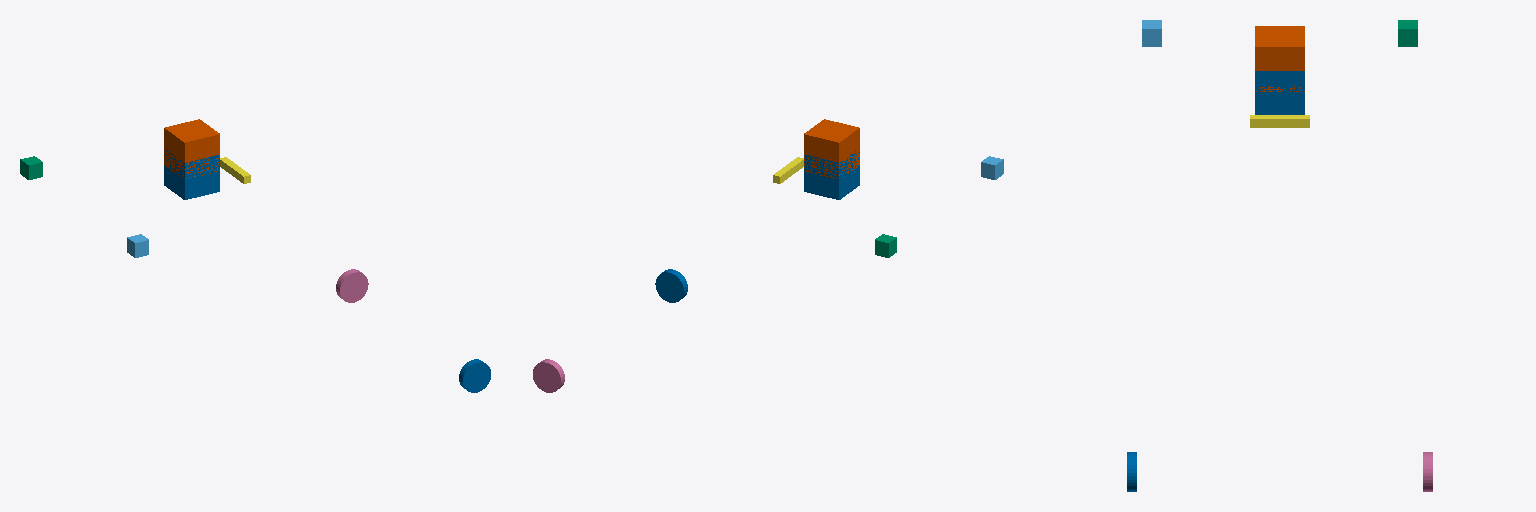
--- Render facts (derived) ---
3 views of the same robot in one strip: view 1: azimuth 30°, elevation 25°; view 2: azimuth 150°, elevation 25°; view 3: azimuth 270°, elevation 25° (orthographic).
Model catvehicle with 14 links and 13 joints (2 revolute, 4 continuous, 7 fixed), rooted at base_link, posed all joints at 0.
Visible links, largest first — view 1: velodyne_link, camera_link, front_left_steering_link, front_right_steering_link; view 2: velodyne_link, camera_link, front_right_steering_link, front_left_steering_link; view 3: velodyne_link, camera_link, triclops_link, camera_right_link, camera_left_link.
Boxes of the visible links, box(x1,y1,x2,y2) form: velodyne_link: box(164, 119, 219, 178); camera_link: box(164, 150, 219, 199); front_left_steering_link: box(336, 269, 368, 302); front_right_steering_link: box(459, 359, 490, 392); velodyne_link: box(804, 119, 859, 178); camera_link: box(804, 150, 859, 199); front_right_steering_link: box(655, 269, 687, 302); front_left_steering_link: box(533, 359, 564, 392); velodyne_link: box(1255, 26, 1304, 91); camera_link: box(1255, 71, 1304, 114); triclops_link: box(1250, 115, 1309, 127); camera_right_link: box(1142, 20, 1161, 46); camera_left_link: box(1398, 20, 1417, 46).
Size in the robot's own frame: 2.45 by 1.54 by 1.8 metres.
Meshes: 3 distinct files referenced, 0 mesh visuals loaded (none loaded); not drawn: 6 (reference not matched to a file when rendering).

The robot description file, URDF, robot "catvehicle":
<?xml version="1.0" encoding="utf-8"?>
<!-- =================================================================================== -->
<!-- |    This document was autogenerated by xacro from catvehicle.xacro               | -->
<!-- |    EDITING THIS FILE BY HAND IS NOT RECOMMENDED                                 | -->
<!-- =================================================================================== -->
<!--
Author: Jonathan Sprinkle, Sam Taylor, Alex Warren, Rahul Bhadani
Hannah Grace Mason, Joe Macinnes, Landon Chase Bentley
Copyright (c) 2013-2018 Arizona Board of Regents
All rights reserved.
Permission is hereby granted, without written agreement and without 
license or royalty fees, to use, copy, modify, and distribute this
software and its documentation for any purpose, provided that the 
above copyright notice and the following two paragraphs appear in 
all copies of this software.
IN NO EVENT SHALL THE ARIZONA BOARD OF REGENTS BE LIABLE TO ANY PARTY 
FOR DIRECT, INDIRECT, SPECIAL, INCIDENTAL, OR CONSEQUENTIAL DAMAGES 
ARISING OUT OF THE USE OF THIS SOFTWARE AND ITS DOCUMENTATION, EVEN 
IF THE ARIZONA BOARD OF REGENTS HAS BEEN ADVISED OF THE POSSIBILITY OF 
SUCH DAMAGE.
THE ARIZONA BOARD OF REGENTS SPECIFICALLY DISCLAIMS ANY WARRANTIES, 
INCLUDING, BUT NOT LIMITED TO, THE IMPLIED WARRANTIES OF MERCHANTABILITY 
AND FITNESS FOR A PARTICULAR PURPOSE. THE SOFTWARE PROVIDED HEREUNDER
IS ON AN "AS IS" BASIS, AND THE ARIZONA BOARD OF REGENTS HAS NO OBLIGATION
TO PROVIDE MAINTENANCE, SUPPORT, UPDATES, ENHANCEMENTS, OR MODIFICATIONS.
Summary: 
=======
This file specifies 3D structure of the car with their inertial properties
and other dynamics.
-->
<!-- Inertial parameters selected with the help of 
http://www.car-engineer.com/vehicle-inertia-calculation-tool/
-->
<robot name="catvehicle" xmlns:xacro="http://www.ros.org/wiki/xacro">
  <!--xacro:property name="tyre_mass_ixx" value="2.53174430759784"/>
    <xacro:property name="tyre_mass_iyy" value="1.43724304615612"/>
    <xacro:property name="tyre_mass_izz" value="1.39917175362076"/>
    <xacro:property name="tyre_mass_ixz" value="0.0295230888350046"/>
    <xacro:property name="tyre_mass_ixy" value="-0.00131884944491474"/>
    <xacro:property name="tyre_mass_iyz" value="-0.00115883839900594"/-->
  <gazebo reference="back_right_wheel_link">
    <mu1>1000000</mu1>
    <mu2>1000000</mu2>
    <kp>10000000</kp>
    <!--kp is surface elasticity-->
    <kd>100</kd>
    <!-- kd is damping-->
    <minDepth>0.01</minDepth>
    <maxVel>1000.0</maxVel>
  </gazebo>
  <gazebo reference="back_left_wheel_link">
    <mu1>100000000</mu1>
    <mu2>100000000</mu2>
    <kp>10000000</kp>
    <kd>100</kd>
    <minDepth>0.01</minDepth>
    <maxVel>1000.0</maxVel>
  </gazebo>
  <gazebo reference="front_right_wheel_link">
    <mu1>100000000</mu1>
    <mu2>100000000</mu2>
    <kp>1000000</kp>
    <kd>100</kd>
    <minDepth>0.01</minDepth>
    <maxVel>1000.0</maxVel>
  </gazebo>
  <gazebo reference="front_left_wheel_link">
    <mu1>100000000</mu1>
    <mu2>100000000</mu2>
    <kp>1000000</kp>
    <kd>100</kd>
    <minDepth>0.01</minDepth>
    <maxVel>1000.0</maxVel>
  </gazebo>
  <gazebo reference="front_right_steering_link">
    <mu1>100000000</mu1>
    <mu2>100000000</mu2>
    <kp>1000000</kp>
    <kd>0.1</kd>
    <minDepth>0.01</minDepth>
    <maxVel>1000.0</maxVel>
  </gazebo>
  <gazebo reference="front_left_steering_link">
    <mu1>100000000</mu1>
    <mu2>100000000</mu2>
    <kp>1000000</kp>
    <kd>0.1</kd>
    <minDepth>0.01</minDepth>
    <maxVel>1000.0</maxVel>
  </gazebo>
  <!--camera-->
  <!-- JMS removed to see if it improves sim times -->
  <!--
<gazebo reference="camera_link">
   <mu1>0.6</mu1>
   <mu2>0.5</mu2>
</gazebo>
<gazebo reference="camera_link">
   <sensor type="camera" name="camera1">
      <update_rate>30.0</update_rate>
      <camera name="head">
        <horizontal_fov>1.3962634</horizontal_fov>
        <image>
          <width>800</width>
          <height>800</height>
          <format>R8G8B8</format>
        </image>
        <clip>
          <near>0.02</near>
          <far>300</far>
        </clip>
        <noise>
          <type>gaussian</type>
           <mean>0.0</mean>
          <stddev>0.007</stddev>
        </noise>
      </camera>
      <plugin name="camera_controller" filename="libgazebo_ros_camera.so">
        <alwaysOn>true</alwaysOn>
        <updateRate>0.0</updateRate>
    	<robotNamespace>/$(arg roboname)</robotNamespace>
        <cameraName>camera1</cameraName>
        <imageTopicName>image_raw</imageTopicName>
        <cameraInfoTopicName>camera_info</cameraInfoTopicName>
        <frameName>camera_link</frameName>
        <hackBaseline>0.07</hackBaseline>
        <distortionK1>0.0</distortionK1>
        <distortionK2>0.0</distortionK2>
        <distortionK3>0.0</distortionK3>
        <distortionT1>0.0</distortionT1>
        <distortionT2>0.0</distortionT2>
      </plugin>
    </sensor>
</gazebo>
-->
  <gazebo reference="laser_link">
    <mu1>0.6</mu1>
    <mu2>0.5</mu2>
  </gazebo>
  <gazebo reference="laser_link">
    <sensor name="lidar_sensor" type="ray">
      <pose>0 0 0 0 0 0</pose>
      <visualize>false</visualize>
      <update_rate>5</update_rate>
      <ray>
        <scan>
          <horizontal>
            <samples>100</samples>
            <resolution>1</resolution>
            <min_angle>-0.4</min_angle>
            <max_angle>0.4</max_angle>
          </horizontal>
          <vertical>
            <samples>20</samples>
            <resolution>1</resolution>
            <min_angle>-0.034906585</min_angle>
            <!--			<max_angle>0.432841654</max_angle> -->
            <max_angle>0.326</max_angle>
          </vertical>
        </scan>
        <range>
          <min>1</min>
          <max>50.0</max>
          <resolution>0.02</resolution>
        </range>
      </ray>
      <!--                <plugin name="gazebo_ros_head_hokuyo_controller" filename="libgazebo_ros_laser.so">
                   <topicName>/cat/laser/scan</topicName>
                      <frameName>laser_link</frameName>  -->
      <plugin filename="libgazebo_ros_block_laser.so" name="laser_controller">
        <frameName>laser_link</frameName>
        <hokuyoMinIntensity>101</hokuyoMinIntensity>
        <robotNamespace>/catvehicle</robotNamespace>
        <topicName>lidar_points</topicName>
        <gaussianNoise>0.02</gaussianNoise>
        <updateRate>5</updateRate>
      </plugin>
    </sensor>
  </gazebo>
  <gazebo reference="front_laser_link">
    <mu1>0.6</mu1>
    <mu2>0.5</mu2>
  </gazebo>
  <gazebo reference="front_laser_link">
    <sensor name="sick_lms291" type="ray">
      <pose>0 0 0 0 0 0</pose>
      <visualize>true</visualize>
      <update_rate>75</update_rate>
      <ray>
        <scan>
          <horizontal>
            <samples>180</samples>
            <resolution>1</resolution>
            <min_angle>-1.57</min_angle>
            <max_angle>1.57</max_angle>
          </horizontal>
        </scan>
        <range>
          <min>1.5</min>
          <!-- This range is in m, I hope... -->
          <max>80.0</max>
          <resolution>0.05</resolution>
        </range>
        <!--
                           <noise>
                                <type>gaussian</type>
                                <mean>0.0</mean>
                                <stddev>0.02</stddev>
                           </noise>
-->
      </ray>
      <plugin filename="libgazebo_ros_laser.so" name="sick_lms291_controller">
        <!--			      <robotNamespace>/catvehicle</robotNamespace>-->
        <topicName>/catvehicle/front_laser_points</topicName>
        <update_rate>75</update_rate>
        <frameName>front_laser_link</frameName>
        <gaussianNoise>0.02</gaussianNoise>
      </plugin>
    </sensor>
  </gazebo>
  <gazebo>
    <plugin filename="libgazebo_ros_control.so" name="gazebo_ros_control">
      <robotNamespace>/catvehicle</robotNamespace>
      <robotSimType>gazebo_ros_control/DefaultRobotHWSim</robotSimType>
      <legacyModeNS>true</legacyModeNS>
    </plugin>
  </gazebo>
  <!--Rear Wheel Drive, cuz why not-->
  <!--
<gazebo>
  <plugin name="differential_drive_controller" filename="libgazebo_ros_diff_drive.so">
      <robotNamespace>/catvehicle</robotNamespace>
      <rosDebugLevel>Debug</rosDebugLevel>
      <publishWheelTF>false</publishWheelTF>
      <publishWheelJointState>true</publishWheelJointState>
      <alwaysOn>true</alwaysOn>
      <leftJoint>back_left_wheel_joint</leftJoint>
      <rightJoint>back_right_wheel_joint</rightJoint>
      <wheelSeparation>1.73</wheelSeparation>
      <wheelDiameter>0.712</wheelDiameter>
      <wheelTorque>350</wheelTorque>
      <wheelAcceleration>1.0</wheelAcceleration>
      <commandTopic>cmd_vel</commandTopic>
      <odometryTopic>odom</odometryTopic>
      <odometryFrame>odom</odometryFrame>
      <odometrySource>world</odometrySource>
      <robotBaseFrame>base_link</robotBaseFrame>
      <cmd_vel_timeout>0.20</cmd_vel_timeout>
      <updateRate>10.0</updateRate>
  </plugin>
</gazebo>
-->
  <gazebo>
    <plugin filename="libgazebo_ros_joint_state_publisher.so" name="joint_state_publisher">
      <jointName>back_left_wheel_joint, back_right_wheel_joint, front_left_steering_joint, front_right_steering_joint, front_right_wheel_joint, front_left_wheel_joint</jointName>
      <updateRate>50.0</updateRate>
      <robotNamespace>/catvehicle</robotNamespace>
      <alwaysOn>true</alwaysOn>
    </plugin>
  </gazebo>
  <gazebo>
    <plugin filename="libcatvehiclegazebo.so" name="cmdvel_controller">
      <robotNamespace>/catvehicle</robotNamespace>
    </plugin>
  </gazebo>
  <gazebo reference="velodyne_link">
    <mu1>0.6</mu1>
    <mu2>0.5</mu2>
  </gazebo>
  <gazebo reference="velodyne_link">
    <sensor name="lidar_sensor" type="ray">
      <pose>0 0 0 0 0 0</pose>
      <visualize>false</visualize>
      <update_rate>5</update_rate>
      <ray>
        <scan>
          <horizontal>
            <samples>100</samples>
            <resolution>1</resolution>
            <min_angle>-0.4</min_angle>
            <max_angle>0.4</max_angle>
          </horizontal>
          <vertical>
            <samples>20</samples>
            <resolution>1</resolution>
            <min_angle>-0.034906585</min_angle>
            <!--			<max_angle>0.432841654</max_angle> -->
            <max_angle>0.326</max_angle>
          </vertical>
        </scan>
        <range>
          <min>1</min>
          <max>50.0</max>
          <resolution>0.02</resolution>
        </range>
      </ray>
      <!--                <plugin name="gazebo_ros_head_hokuyo_controller" filename="libgazebo_ros_laser.so">
                   <topicName>/cat/laser/scan</topicName>
                      <frameName>laser_link</frameName>  -->
      <plugin filename="libgazebo_ros_block_laser.so" name="laser_controller">
        <frameName>velodyne_link</frameName>
        <hokuyoMinIntensity>101</hokuyoMinIntensity>
        <robotNamespace>/catvehicle</robotNamespace>
        <topicName>lidar_points</topicName>
        <gaussianNoise>0.02</gaussianNoise>
        <updateRate>5</updateRate>
      </plugin>
    </sensor>
  </gazebo>
  <!--right camera-->
  <gazebo reference="camera_right_link">
    <mu1>0.6</mu1>
    <mu2>0.5</mu2>
  </gazebo>
  <gazebo reference="camera_right_link">
    <sensor name="camera_right" type="camera">
      <update_rate>30.0</update_rate>
      <camera name="right">
        <horizontal_fov>1.3962634</horizontal_fov>
        <image>
          <width>800</width>
          <height>800</height>
          <format>R8G8B8</format>
        </image>
        <clip>
          <near>0.02</near>
          <far>300</far>
        </clip>
        <noise>
          <type>gaussian</type>
          <mean>0.0</mean>
          <stddev>0.007</stddev>
        </noise>
      </camera>
      <plugin filename="libgazebo_ros_camera.so" name="camera_right_controller">
        <alwaysOn>true</alwaysOn>
        <updateRate>0.0</updateRate>
        <robotNamespace>/catvehicle</robotNamespace>
        <cameraName>camera_right</cameraName>
        <imageTopicName>image_raw_right</imageTopicName>
        <cameraInfoTopicName>camera_right_info</cameraInfoTopicName>
        <frameName>camera_right_link</frameName>
        <hackBaseline>0.07</hackBaseline>
        <distortionK1>0.0</distortionK1>
        <distortionK2>0.0</distortionK2>
        <distortionK3>0.0</distortionK3>
        <distortionT1>0.0</distortionT1>
        <distortionT2>0.0</distortionT2>
      </plugin>
    </sensor>
  </gazebo>
  <!--left camera-->
  <gazebo reference="camera_left_link">
    <mu1>0.6</mu1>
    <mu2>0.5</mu2>
  </gazebo>
  <gazebo reference="camera_left_link">
    <sensor name="camera_left" type="camera">
      <update_rate>30.0</update_rate>
      <camera name="left">
        <horizontal_fov>1.3962634</horizontal_fov>
        <image>
          <width>800</width>
          <height>800</height>
          <format>R8G8B8</format>
        </image>
        <clip>
          <near>0.02</near>
          <far>300</far>
        </clip>
        <noise>
          <type>gaussian</type>
          <mean>0.0</mean>
          <stddev>0.007</stddev>
        </noise>
      </camera>
      <plugin filename="libgazebo_ros_camera.so" name="camera_left_controller">
        <alwaysOn>true</alwaysOn>
        <updateRate>0.0</updateRate>
        <robotNamespace>/catvehicle</robotNamespace>
        <cameraName>camera_left</cameraName>
        <imageTopicName>image_raw_left</imageTopicName>
        <cameraInfoTopicName>camera_left_info</cameraInfoTopicName>
        <frameName>camera_left_link</frameName>
        <hackBaseline>0.07</hackBaseline>
        <distortionK1>0.0</distortionK1>
        <distortionK2>0.0</distortionK2>
        <distortionK3>0.0</distortionK3>
        <distortionT1>0.0</distortionT1>
        <distortionT2>0.0</distortionT2>
      </plugin>
    </sensor>
  </gazebo>
  <!--triclops camera-->
  <gazebo reference="triclops_link">
    <mu1>0.6</mu1>
    <mu2>0.5</mu2>
  </gazebo>
  <gazebo reference="triclops_link">
    <sensor name="triclops" type="camera">
      <update_rate>16.0</update_rate>
      <camera name="triclops">
        <horizontal_fov>1.3962634</horizontal_fov>
        <image>
          <width>1280</width>
          <height>960</height>
          <format>R8G8B8</format>
        </image>
        <clip>
          <near>0.02</near>
          <far>300</far>
        </clip>
        <noise>
          <type>gaussian</type>
          <mean>0.0</mean>
          <stddev>0.007</stddev>
        </noise>
      </camera>
      <plugin filename="libgazebo_ros_camera.so" name="camera_triclops_controller">
        <alwaysOn>true</alwaysOn>
        <updateRate>0.0</updateRate>
        <robotNamespace>/catvehicle</robotNamespace>
        <cameraName>triclops</cameraName>
        <imageTopicName>triclops/left/image</imageTopicName>
        <cameraInfoTopicName>camera_triclops_info</cameraInfoTopicName>
        <frameName>triclops_link</frameName>
        <hackBaseline>0.07</hackBaseline>
        <distortionK1>0.0</distortionK1>
        <distortionK2>0.0</distortionK2>
        <distortionK3>0.0</distortionK3>
        <distortionT1>0.0</distortionT1>
        <distortionT2>0.0</distortionT2>
      </plugin>
    </sensor>
  </gazebo>
  <!--Car Body-->
  <link name="base_link">
    <collision>
      <origin rpy="0 0 0" xyz="0 0 1.0639"/>
      <geometry>
        <mesh filename="package://catvehicle/meshes/ford_escape_no_wheels_2.stl"/>
      </geometry>
    </collision>
    <visual>
      <origin rpy="0 0 0" xyz="0 0 1.0639"/>
      <geometry>
        <mesh filename="package://catvehicle/meshes/ford_escape_no_wheels_2.stl"/>
      </geometry>
    </visual>
  </link>
  <joint name="inertial_joint" type="fixed">
    <parent link="base_link"/>
    <child link="main_mass"/>
    <origin rpy="0 0 0" xyz="0 0 0"/>
  </joint>
  <link name="main_mass" type="fixed">
    <parent link="inertial_joint"/>
    <inertial>
      <origin rpy="0 0 0" xyz="-0.0202 0.0126 -0.0256"/>
      <!-- This is the center of mass of Car Body-->
      <mass value="1703.239"/>
      <inertia ixx="347.195805" ixy="-11.4914985" ixz="18.5070628" iyy="2330.10026" iyz="3.97814264" izz="2529.41827"/>
    </inertial>
  </link>
  <!--Back Right Wheel-->
  <joint name="back_right_wheel_joint" type="continuous">
    <parent link="base_link"/>
    <child link="back_right_wheel_link"/>
    <origin rpy="0 0 0" xyz="-1.05 -0.765 0.66"/>
    <axis xyz="0 1 0"/>
    <dynamics damping="0.01"/>
    <limit effort="10000" velocity="1000"/>
    <joint_properties damping="10" friction="10.0"/>
  </joint>
  <link name="back_right_wheel_link">
    <collision>
      <origin rpy="1.57079634179 0 0" xyz="0 0 0"/>
      <geometry>
        <cylinder length="0.2336291492" radius="0.3671951254"/>
        <!--mesh filename="package://catvehicle/meshes/ford_escape_wheel.stl"/-->
      </geometry>
      <surface>
        <friction>
          <ode>
            <mu>10000000</mu>
            <mu2>7000</mu2>
          </ode>
        </friction>
        <bounce>
          <restitution_coefficient>0.0</restitution_coefficient>
        </bounce>
        <contact>
          <ode>
            <soft_cfm>0.001</soft_cfm>
            <soft_erp>0.5</soft_erp>
            <kp>10000000</kp>
            <kd>1</kd>
          </ode>
        </contact>
      </surface>
    </collision>
    <visual>
      <!--origin xyz="0 0 0" rpy="${PI/2} 0 0"/-->
      <origin rpy="0 0 -1.57079634179" xyz="0 0.1 0.0"/>
      <geometry>
        <!--cylinder length="${tyre_length}" radius="${tyre_radius}"/>
                <scale xyz="1 1 1"/-->
        <mesh filename="package://catvehicle/meshes/ford_escape_wheel.stl" scale="1.2 1 1"/>
      </geometry>
    </visual>
    <inertial>
      <origin rpy="0 0 0" xyz="0 0 0"/>
      <mass value="20"/>
      <inertia ixx="1.34832260118" ixy="0.0" ixz="0.0" iyy="0.765132266181" iyz="0.0" izz="0.765132266181"/>
    </inertial>
  </link>
  <!--Back Left Wheel -->
  <joint name="back_left_wheel_joint" type="continuous">
    <parent link="base_link"/>
    <child link="back_left_wheel_link"/>
    <origin rpy="0 0 0" xyz="-1.05 0.765 0.66"/>
    <axis xyz="0 1 0"/>
    <dynamics damping="0.01"/>
    <limit effort="10000" velocity="1000"/>
    <joint_properties damping="10" friction="10.0"/>
  </joint>
  <link name="back_left_wheel_link">
    <collision>
      <origin rpy="1.57079634179 0 0" xyz="0 0 0"/>
      <geometry>
        <cylinder length="0.2336291492" radius="0.3671951254"/>
        <!--mesh filename="package://catvehicle/meshes/ford_escape_wheel.stl"/-->
      </geometry>
      <surface>
        <friction>
          <ode>
            <mu>10000000</mu>
            <mu2>7000</mu2>
          </ode>
        </friction>
        <bounce>
          <restitution_coefficient>0.0</restitution_coefficient>
        </bounce>
        <contact>
          <ode>
            <soft_cfm>0.001</soft_cfm>
            <soft_erp>0.5</soft_erp>
            <kp>10000000</kp>
            <kd>1</kd>
          </ode>
        </contact>
      </surface>
    </collision>
    <visual>
      <!--origin xyz="0 0 0" rpy="${PI/2} 0 0"/-->
      <origin rpy="0 0 1.57079634179" xyz="0 -0.1 0.0"/>
      <geometry>
        <!--cylinder length="${tyre_length}" radius="${tyre_radius}"/-->
        <mesh filename="package://catvehicle/meshes/ford_escape_wheel.stl" scale="1.2 1 1"/>
      </geometry>
    </visual>
    <inertial>
      <origin rpy="0 0 0" xyz="0 0 0"/>
      <mass value="20"/>
      <inertia ixx="1.34832260118" ixy="0.0" ixz="0.0" iyy="0.765132266181" iyz="0.0" izz="0.765132266181"/>
    </inertial>
  </link>
  <!--Right Steering-->
  <joint name="front_right_steering_joint" type="revolute">
    <parent link="base_link"/>
    <child link="front_right_steering_link"/>
    <origin rpy="0 0 0" xyz="1.55 -0.745 0.66"/>
    <axis xyz="0 0 1"/>
    <limit effort="10000" lower="-0.6" upper="0.6" velocity="1000"/>
  </joint>
  <link name="front_right_steering_link">
    <collision>
      <origin rpy="1.57079634179 0 0" xyz="0 0 0"/>
      <geometry>
        <cylinder length="0.05" radius="0.1"/>
      </geometry>
    </collision>
    <visual>
      <origin rpy="1.57079634179 0 0" xyz="0 0 0"/>
      <geometry>
        <cylinder length="0.05" radius="0.1"/>
      </geometry>
    </visual>
    <inertial>
      <origin rpy="0 0 0" xyz="0 0 0"/>
      <mass value="50.0"/>
      <inertia ixx="0.25" ixy="0.000000" ixz="0.000000" iyy="0.135416666667" iyz="0.000000" izz="0.135416666667"/>
    </inertial>
  </link>
  <!--Front Right Wheel-->
  <joint name="front_right_wheel_joint" type="continuous">
    <parent link="front_right_steering_link"/>
    <child link="front_right_wheel_link"/>
    <origin rpy="0 0 0" xyz="0 0 0"/>
    <axis xyz="0 1 0"/>
    <dynamics damping="0.01"/>
    <limit effort="10000" velocity="1000"/>
    <joint_properties damping="10" friction="10.0"/>
  </joint>
  <link name="front_right_wheel_link">
    <collision>
      <origin rpy="1.57079634179 0 0" xyz="0 0 0"/>
      <!--origin xyz="0 0 0" rpy="0 0 ${-PI/2}"/-->
      <geometry>
        <cylinder length="0.2336291492" radius="0.3671951254"/>
        <!--mesh filename="package://catvehicle/meshes/ford_escape_wheel.stl"/-->
      </geometry>
      <surface>
        <friction>
          <ode>
            <mu>10000000</mu>
            <mu2>7000</mu2>
          </ode>
        </friction>
        <bounce>
          <restitution_coefficient>0.0</restitution_coefficient>
        </bounce>
        <contact>
          <ode>
            <soft_cfm>0.001</soft_cfm>
            <soft_erp>0.5</soft_erp>
            <kp>10000000</kp>
            <kd>1</kd>
          </ode>
        </contact>
      </surface>
    </collision>
    <visual>
      <!--origin xyz="0 0 0" rpy="${PI/2} 0 0"/-->
      <origin rpy="0 0 -1.57079634179" xyz="0 0.1 0.0"/>
      <geometry>
        <!--cylinder length="${tyre_length}" radius="${tyre_radius}"/>
                <scale xyz="1 1 1"/-->
        <mesh filename="package://catvehicle/meshes/ford_escape_wheel.stl" scale="1.2 1 1"/>
      </geometry>
    </visual>
    <inertial>
      <origin rpy="0 0 0" xyz="0 0 0"/>
      <mass value="20"/>
      <inertia ixx="1.34832260118" ixy="0.0" ixz="0.0" iyy="0.765132266181" iyz="0.0" izz="0.765132266181"/>
    </inertial>
  </link>
  <!--Left Steering-->
  <joint name="front_left_steering_joint" type="revolute">
    <parent link="base_link"/>
    <child link="front_left_steering_link"/>
    <origin rpy="0 0 0" xyz="1.55 0.745 0.66"/>
    <axis xyz="0 0 1"/>
    <limit effort="10000" lower="-0.6" upper="0.6" velocity="1000"/>
  </joint>
  <link name="front_left_steering_link">
    <parent link="base_link"/>
    <collision>
      <origin rpy="1.57079634179 0 0" xyz="0 0 0"/>
      <geometry>
        <cylinder length="0.05" radius="0.1"/>
      </geometry>
    </collision>
    <visual>
      <origin rpy="1.57079634179 0 0" xyz="0 0 0"/>
      <geometry>
        <cylinder length="0.05" radius="0.1"/>
      </geometry>
    </visual>
    <inertial>
      <origin rpy="0 0 0" xyz="0 0 0"/>
      <mass value="50.0"/>
      <inertia ixx="0.25" ixy="0.000000" ixz="0.000000" iyy="0.135416666667" iyz="0.000000" izz="0.135416666667"/>
    </inertial>
  </link>
  <!--Front Left Wheel-->
  <joint name="front_left_wheel_joint" type="continuous">
    <parent link="front_left_steering_link"/>
    <child link="front_left_wheel_link"/>
    <origin rpy="0 0 0" xyz="0 0 0"/>
    <axis xyz="0 1 0"/>
    <dynamics damping="0.01"/>
    <limit effort="10000" velocity="1000"/>
    <joint_properties damping="10" friction="10.0"/>
  </joint>
  <link name="front_left_wheel_link">
    <parent link="front_left_wheel_joint"/>
    <collision>
      <origin rpy="1.57079634179 0 0" xyz="0 0 0"/>
      <!--origin xyz="0 0 0" rpy="0 0 ${PI/2}"/-->
      <geometry>
        <cylinder length="0.2336291492" radius="0.3671951254"/>
        <!--mesh filename="package://catvehicle/meshes/ford_escape_wheel.stl"/-->
      </geometry>
      <surface>
        <friction>
          <ode>
            <mu>10000000</mu>
            <mu2>7000</mu2>
          </ode>
        </friction>
        <bounce>
          <restitution_coefficient>0.0</restitution_coefficient>
        </bounce>
        <contact>
          <ode>
            <soft_cfm>0.001</soft_cfm>
            <soft_erp>0.5</soft_erp>
            <kp>10000000</kp>
            <kd>1</kd>
          </ode>
        </contact>
      </surface>
    </collision>
    <visual>
      <!--origin xyz="0 0 0" rpy="${PI/2} 0 0"/-->
      <origin rpy="0 0 1.57079634179" xyz="0 -0.1 0.0"/>
      <geometry>
        <!--cylinder length="${tyre_length}" radius="${tyre_radius}"/-->
        <mesh filename="package://catvehicle/meshes/ford_escape_wheel.stl" scale="1.2 1 1"/>
      </geometry>
    </visual>
    <inertial>
      <origin rpy="0 0 0" xyz="0 0 0"/>
      <mass value="20"/>
      <inertia ixx="1.34832260118" ixy="0.0" ixz="0.0" iyy="0.765132266181" iyz="0.0" izz="0.765132266181"/>
    </inertial>
  </link>
  <!-- front laser-->
  <joint name="front_laser_joint" type="fixed">
    <origin rpy="0 0 0" xyz="2.4662046481 0 0.9268786042"/>
    <axis xyz="0 0 1"/>
    <parent link="base_link"/>
    <child link="front_laser_link"/>
  </joint>
  <link name="front_laser_link">
    <parent link="front_laser_joint"/>
    <collision>
      <origin rpy="0 0.0 0" xyz="0 0 0"/>
      <geometry>
        <box size="0.25 0.25 0.25"/>
      </geometry>
    </collision>
    <visual>
      <origin rpy="0 0 0" xyz="0 0 0"/>
      <geometry>
        <mesh filename="package://catvehicle/meshes/SickLMS.stl"/>
        <!--box size="${front_laser_size} ${front_laser_size} ${front_laser_size}"/-->
      </geometry>
    </visual>
    <inertial>
      <mass value="1"/>
      <origin rpy="0 0 0" xyz="0 0 0"/>
      <inertia ixx="0.0104166666667" ixy="0" ixz="0" iyy="0.0104166666667" iyz="0" izz="0.0104166666667"/>
    </inertial>
  </link>
  <joint name="camera_right_joint" type="fixed">
    <origin rpy="0 0 -1.57079634179" xyz="-0.75 -0.645 2.025"/>
    <axis xyz="0 0 1"/>
    <parent link="base_link"/>
    <child link="camera_right_link"/>
  </joint>
  <link name="camera_right_link">
    <collision>
      <origin rpy="0 0 0" xyz="0 0 0"/>
      <geometry>
        <box size="0.1 0.1 0.1"/>
      </geometry>
    </collision>
    <visual>
      <origin rpy="0 0 0" xyz="0 0 0"/>
      <geometry>
        <box size="0.1 0.1 0.1"/>
      </geometry>
    </visual>
    <inertial>
      <mass value="1e-5"/>
      <origin rpy="0 0 0" xyz="0 0 0"/>
      <inertia ixx="1e-6" ixy="0" ixz="0" iyy="1e-6" iyz="0" izz="1e-6"/>
    </inertial>
  </link>
  <joint name="camera_left_joint" type="fixed">
    <origin rpy="0 0 1.57079634179" xyz="-0.75 0.645 2.025"/>
    <axis xyz="0 0 1"/>
    <parent link="base_link"/>
    <child link="camera_left_link"/>
  </joint>
  <link name="camera_left_link">
    <collision>
      <origin rpy="0 0 0" xyz="0 0 0"/>
      <geometry>
        <box size="0.1 0.1 0.1"/>
      </geometry>
    </collision>
    <visual>
      <origin rpy="0 0 0" xyz="0 0 0"/>
      <geometry>
        <box size="0.1 0.1 0.1"/>
      </geometry>
    </visual>
    <inertial>
      <mass value="1e-5"/>
      <origin rpy="0 0 0" xyz="0 0 0"/>
      <inertia ixx="1e-6" ixy="0" ixz="0" iyy="1e-6" iyz="0" izz="1e-6"/>
    </inertial>
  </link>
  <!-- TRICLOPS -->
  <joint name="triclops" type="fixed">
    <origin rpy="0 0 0" xyz="0.3 0 2.025"/>
    <axis xyz="0 0 1"/>
    <parent link="base_link"/>
    <child link="triclops_link"/>
  </joint>
  <link name="triclops_link">
    <collision>
      <origin rpy="0 0 0" xyz="0 0 0"/>
      <geometry>
        <box size="0.05 0.3 0.05"/>
      </geometry>
    </collision>
    <visual>
      <origin rpy="0 0 0" xyz="0 0 0"/>
      <geometry>
        <box size="0.05 0.3 0.05"/>
      </geometry>
    </visual>
    <inertial>
      <mass value="1e-5"/>
      <origin rpy="0 0 0" xyz="0 0 0"/>
      <inertia ixx="1e-6" ixy="0" ixz="0" iyy="1e-6" iyz="0" izz="1e-6"/>
    </inertial>
  </link>
  <joint name="camera_joint" type="fixed">
    <origin rpy="0 0 0" xyz="0 0 2.1"/>
    <axis xyz="0 0 1"/>
    <parent link="base_link"/>
    <child link="camera_link"/>
  </joint>
  <link name="camera_link">
    <collision>
      <origin rpy="0 0 0" xyz="0 0 0"/>
      <geometry>
        <box size="0.25 0.25 0.25"/>
      </geometry>
    </collision>
    <visual>
      <origin rpy="0 0 0" xyz="0 0 0"/>
      <geometry>
        <box size="0.25 0.25 0.25"/>
      </geometry>
    </visual>
    <inertial>
      <mass value="1e-5"/>
      <origin rpy="0 0 0" xyz="0 0 0"/>
      <inertia ixx="1e-6" ixy="0" ixz="0" iyy="1e-6" iyz="0" izz="1e-6"/>
    </inertial>
  </link>
  <joint name="velodyne_joint" type="fixed">
    <origin rpy="0 0 0" xyz="0 0 0.135"/>
    <axis xyz="0 0 1"/>
    <parent link="camera_link"/>
    <child link="velodyne_link"/>
  </joint>
  <link name="velodyne_link">
    <collision>
      <origin rpy="0 0 0" xyz="0 0 0"/>
      <geometry>
        <box size="0.25 0.25 0.25"/>
      </geometry>
    </collision>
    <visual>
      <origin rpy="0 0 0" xyz="0 0 0"/>
      <geometry>
        <box size="0.25 0.25 0.25"/>
      </geometry>
    </visual>
    <inertial>
      <mass value="1"/>
      <origin rpy="0 0 0" xyz="0 0 0"/>
      <inertia ixx="0.0104166666667" ixy="0" ixz="0" iyy="0.0104166666667" iyz="0" izz="0.0104166666667"/>
    </inertial>
  </link>
  <!-- motors and transmissions for the two rear wheels -->
  <transmission name="tran1">
    <type>transmission_interface/SimpleTransmission</type>
    <joint name="back_right_wheel_joint">
      <hardwareInterface>hardware_interface/VelocityJointInterface</hardwareInterface>
    </joint>
    <actuator name="motor1">
      <hardwareInterface>hardware_interface/VelocityJointInterface</hardwareInterface>
      <mechanicalReduction>1</mechanicalReduction>
    </actuator>
  </transmission>
  <transmission name="tran2">
    <type>transmission_interface/SimpleTransmission</type>
    <joint name="back_left_wheel_joint">
      <hardwareInterface>hardware_interface/VelocityJointInterface</hardwareInterface>
    </joint>
    <actuator name="motor2">
      <hardwareInterface>hardware_interface/VelocityJointInterface</hardwareInterface>
      <mechanicalReduction>1</mechanicalReduction>
    </actuator>
  </transmission>
  <transmission name="rack_and_pinion_left">
    <type>transmission_interface/SimpleTransmission</type>
    <joint name="front_left_steering_joint">
      <hardwareInterface>hardware_interface/PositionJointInterface</hardwareInterface>
    </joint>
    <actuator name="eps_left">
      <hardwareInterface>hardware_interface/PositionJointInterface</hardwareInterface>
      <mechanicalReduction>1</mechanicalReduction>
    </actuator>
  </transmission>
  <transmission name="rack_and_pinion_right">
    <type>transmission_interface/SimpleTransmission</type>
    <joint name="front_right_steering_joint">
      <hardwareInterface>hardware_interface/PositionJointInterface</hardwareInterface>
    </joint>
    <actuator name="eps_right">
      <hardwareInterface>hardware_interface/PositionJointInterface</hardwareInterface>
      <mechanicalReduction>1</mechanicalReduction>
    </actuator>
  </transmission>
</robot>
